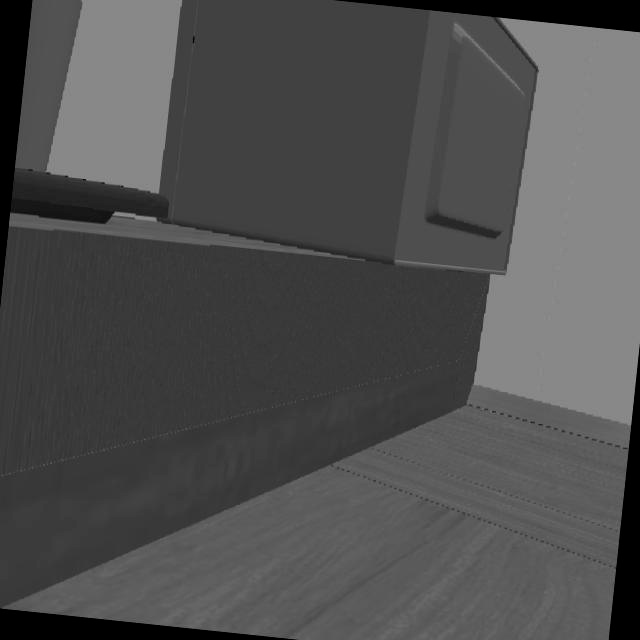microwave: (158, 0, 536, 275)
